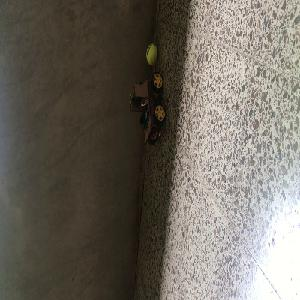Ball: (146, 44, 157, 63)
Robot: (130, 73, 167, 145)
